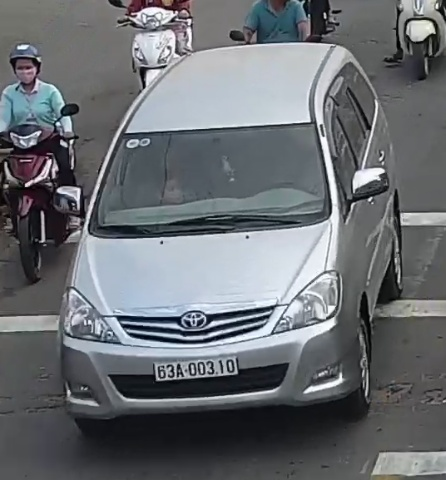vehicle plate: (145, 358, 250, 381)
